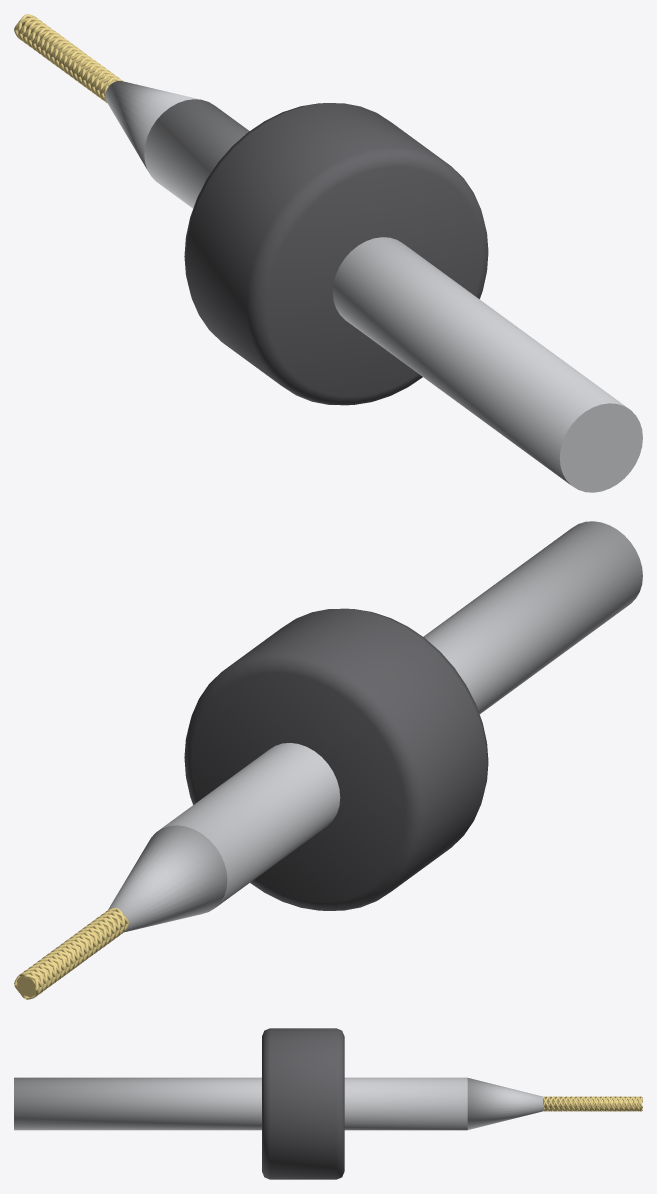
File: corn18_0p9.glb
3 views of the same model, one above another, from view 1: azimuth 30°, elevation 25°; view 2: azimuth 150°, elevation 25°; view 3: azimuth 270°, elevation 25° (orthographic). The views are drawn at different scales.
Parts seen in each view (by area): view 1: Cylinder.002, Cylinder.001, Cone; view 2: Cylinder.002, Cylinder.001, Cone, Cylinder; view 3: Cylinder.001, Cylinder.002, Cone, Cylinder.
Boxes of the visible parts, x1,y1,x2,y2 form: Cylinder.002: (184, 103, 488, 405); Cylinder.001: (144, 99, 642, 492); Cone: (105, 81, 200, 169); Cylinder.002: (184, 608, 488, 910); Cylinder.001: (158, 521, 642, 906); Cone: (108, 825, 227, 932); Cylinder: (16, 910, 125, 997); Cylinder.001: (14, 1077, 467, 1130); Cylinder.002: (262, 1028, 344, 1179); Cone: (467, 1078, 542, 1129); Cylinder: (543, 1097, 641, 1110).
Bounding box in the file's own units: 0.00917 × 0.00917 × 0.0381.
